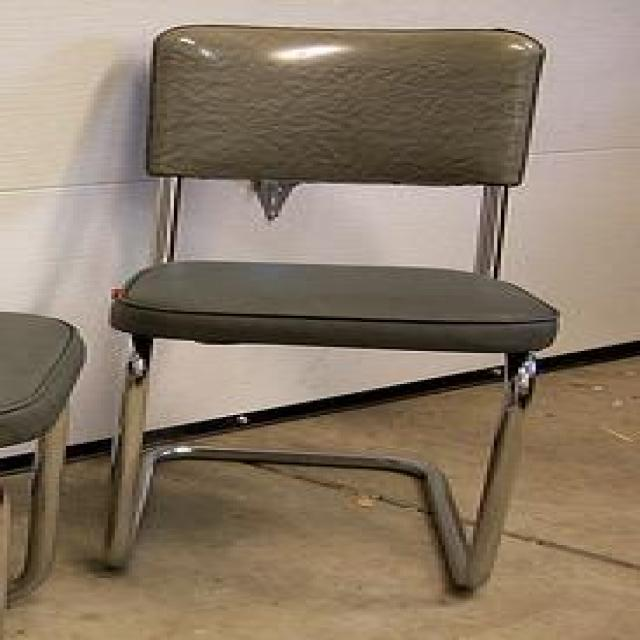chair: (111, 28, 563, 608)
